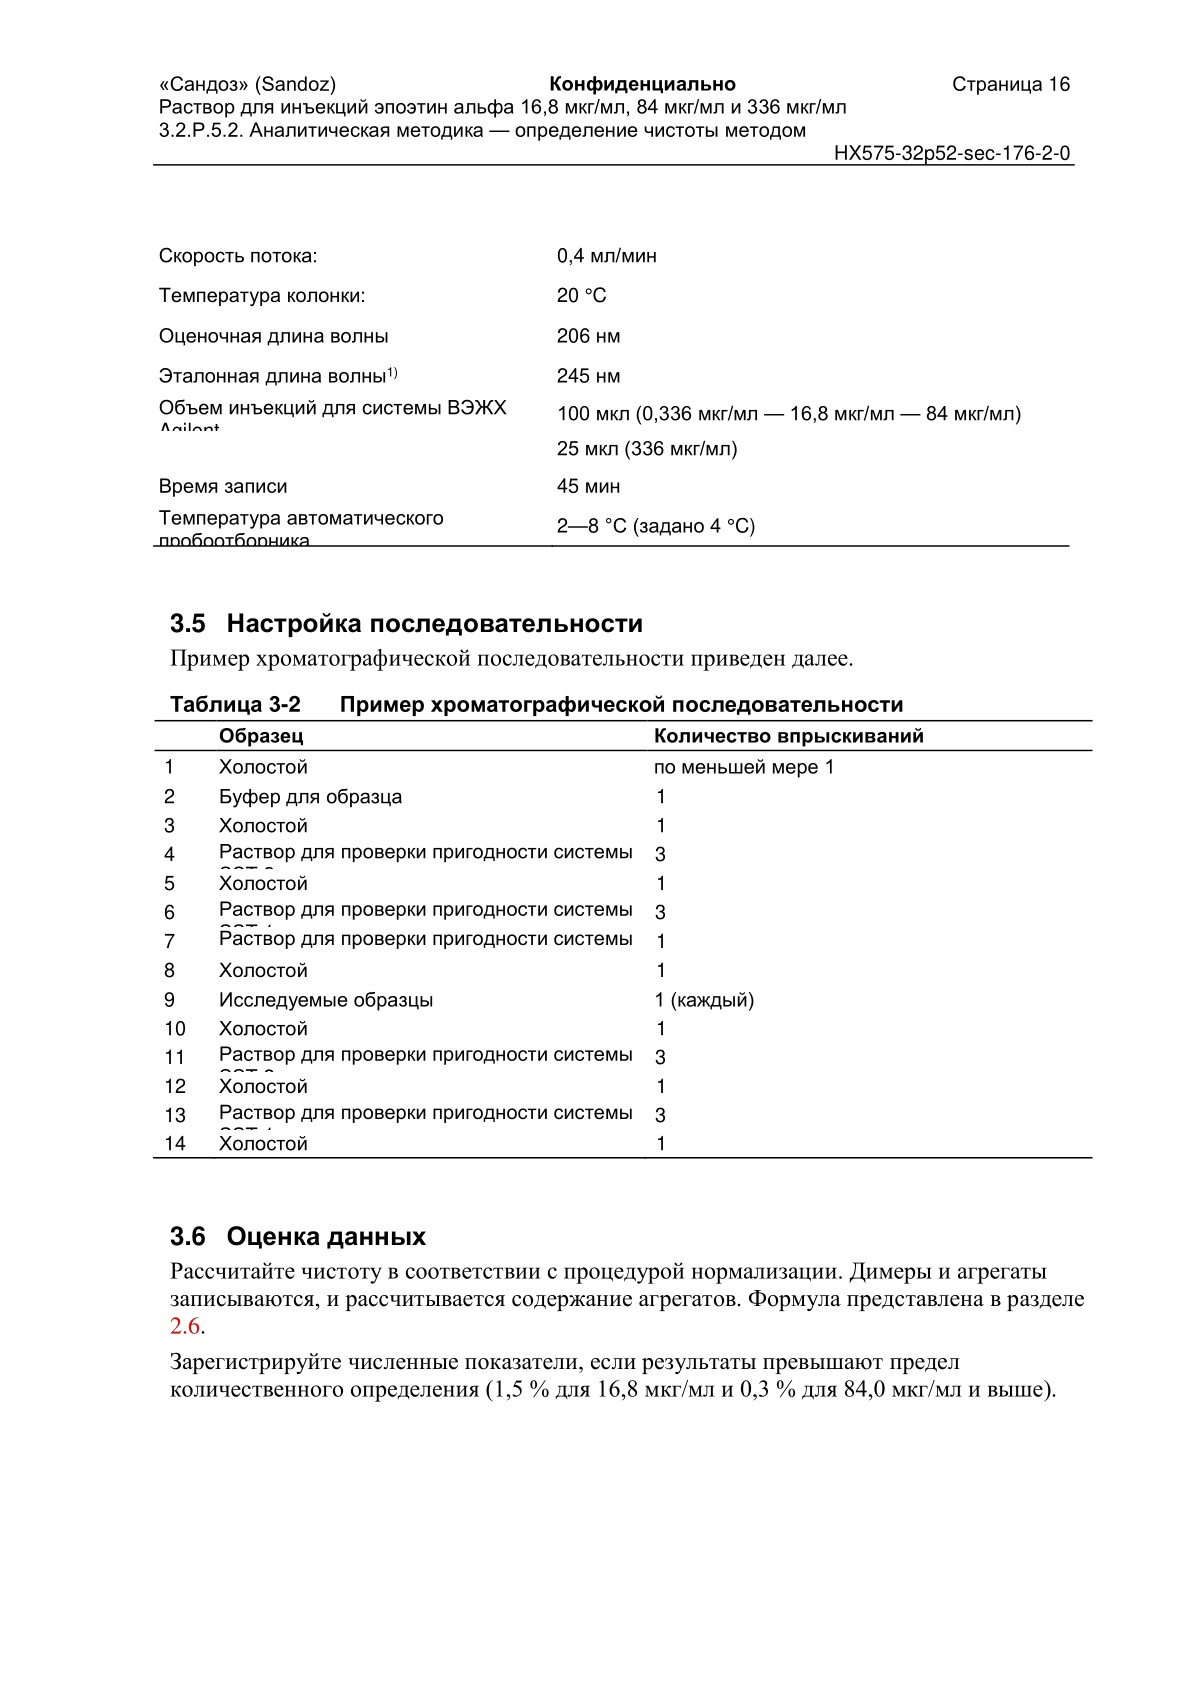partial_lined: (153, 718, 1096, 1160), (150, 161, 1074, 549)
